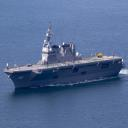Portanaves: (4, 21, 128, 91)
